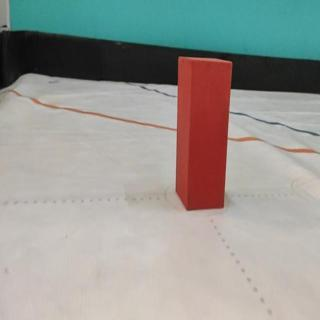redbox: (175, 55, 233, 211)
